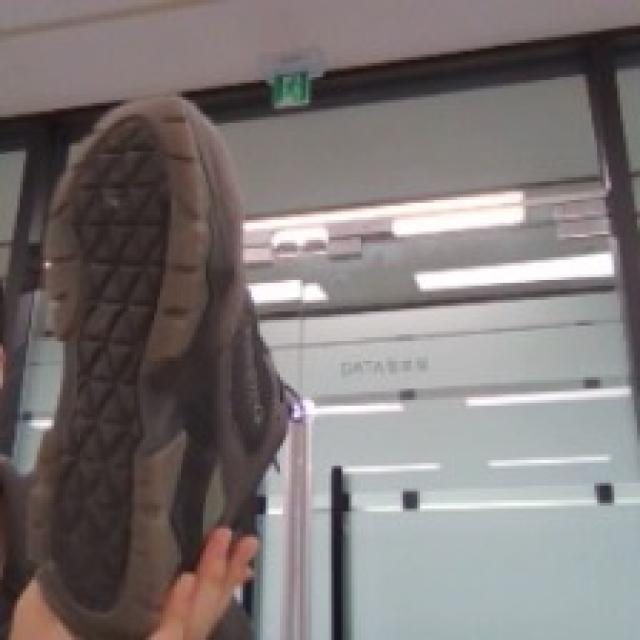shoe: (17, 23, 348, 640)
